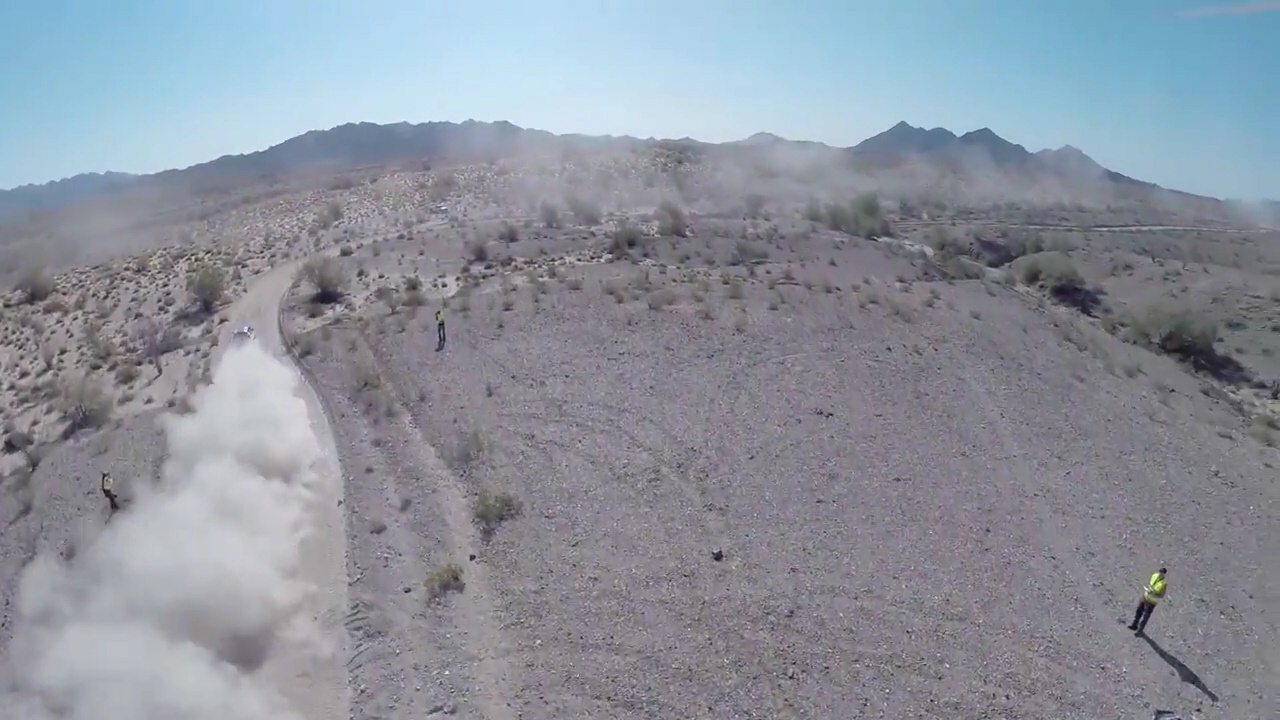insan: (1130, 564, 1170, 639), (96, 465, 127, 518), (429, 308, 448, 353)
